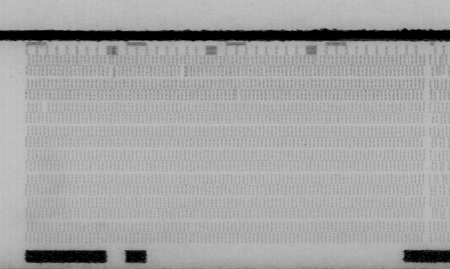Broken hole: (39, 100, 51, 115)
Oblique printing: (433, 54, 446, 79), (230, 87, 244, 102), (433, 76, 445, 93), (177, 64, 190, 79), (106, 65, 120, 78), (433, 161, 446, 175), (435, 209, 447, 221), (436, 173, 445, 185)
